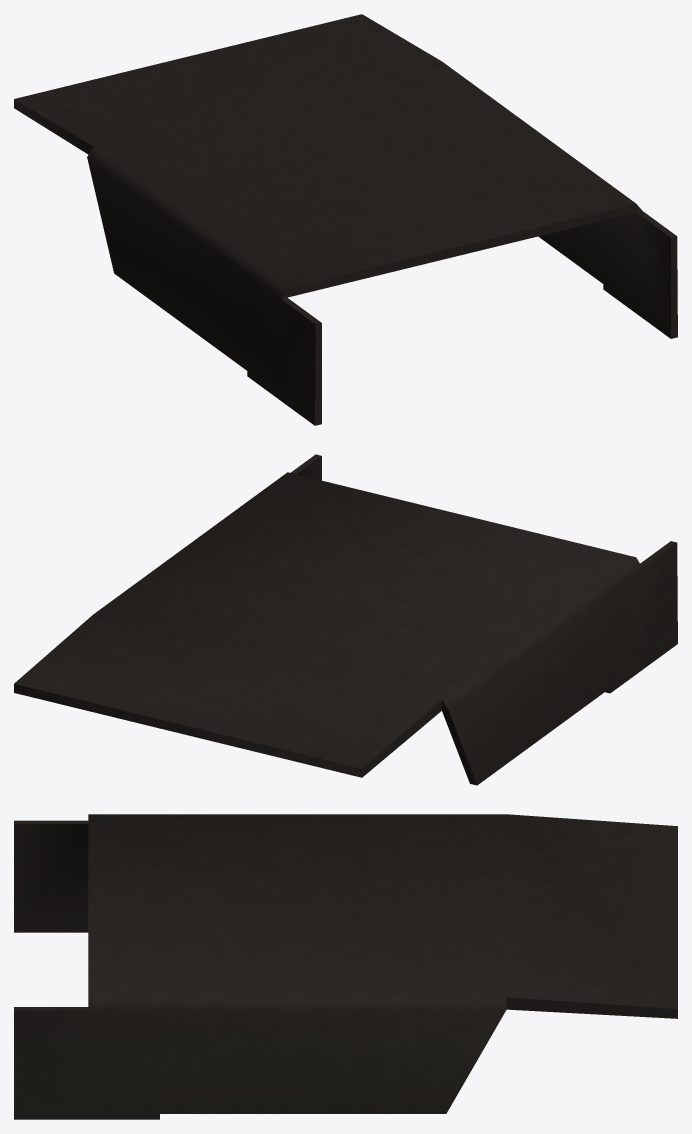
The model's file is hatch_tyag.fbx.
3 views of the same model, one above another, from view 1: azimuth 30°, elevation 25°; view 2: azimuth 150°, elevation 25°; view 3: azimuth 270°, elevation 25° (orthographic). The views are drawn at different scales.
Visible parts, largest first — view 1: hatch_tyag; view 2: hatch_tyag; view 3: hatch_tyag.
Boxes of the visible parts, x1,y1,x2,y2 form: hatch_tyag: (14,14,677,425); hatch_tyag: (14,454,677,785); hatch_tyag: (14,814,677,1119).
Size of the model in its own units: 21.44 by 6.22 by 31.55.
